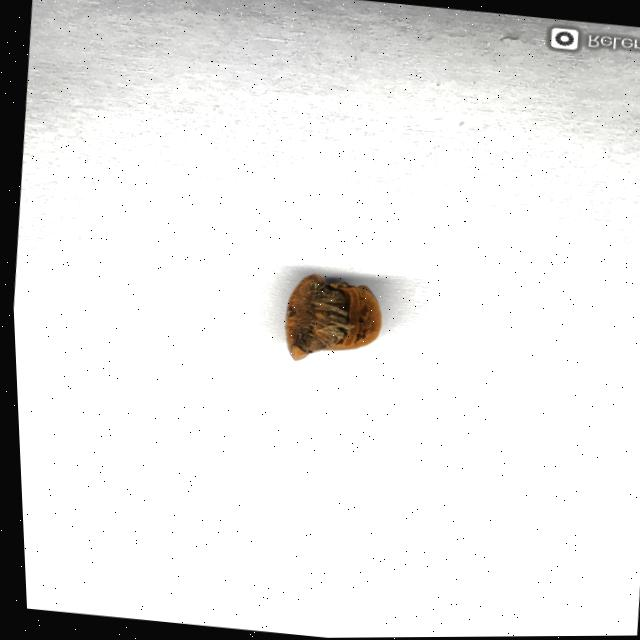Broken: (277, 271, 381, 370)
